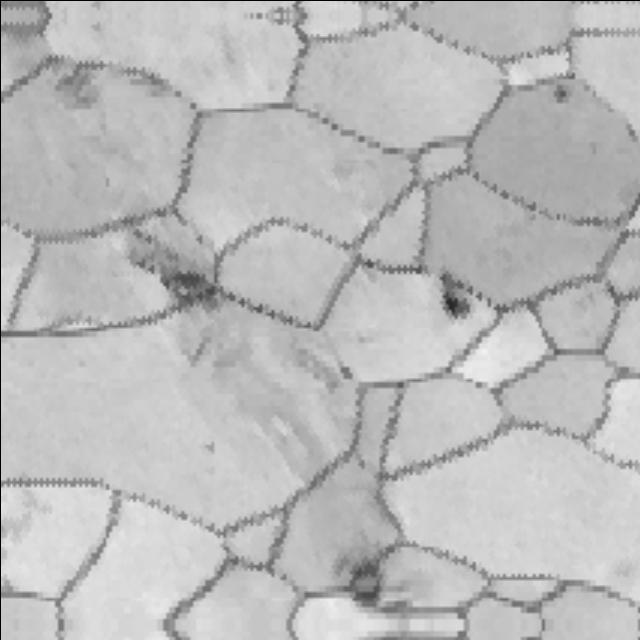good_void: (108, 223, 219, 314), (338, 554, 392, 615), (54, 58, 111, 113), (423, 278, 475, 329), (330, 358, 356, 392), (196, 435, 223, 464), (550, 84, 574, 106)
